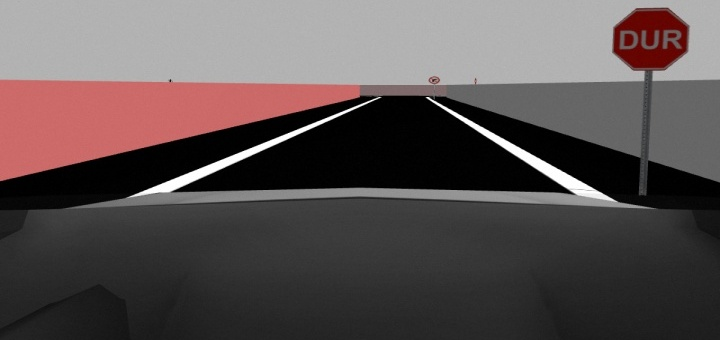dur: (609, 4, 693, 74)
